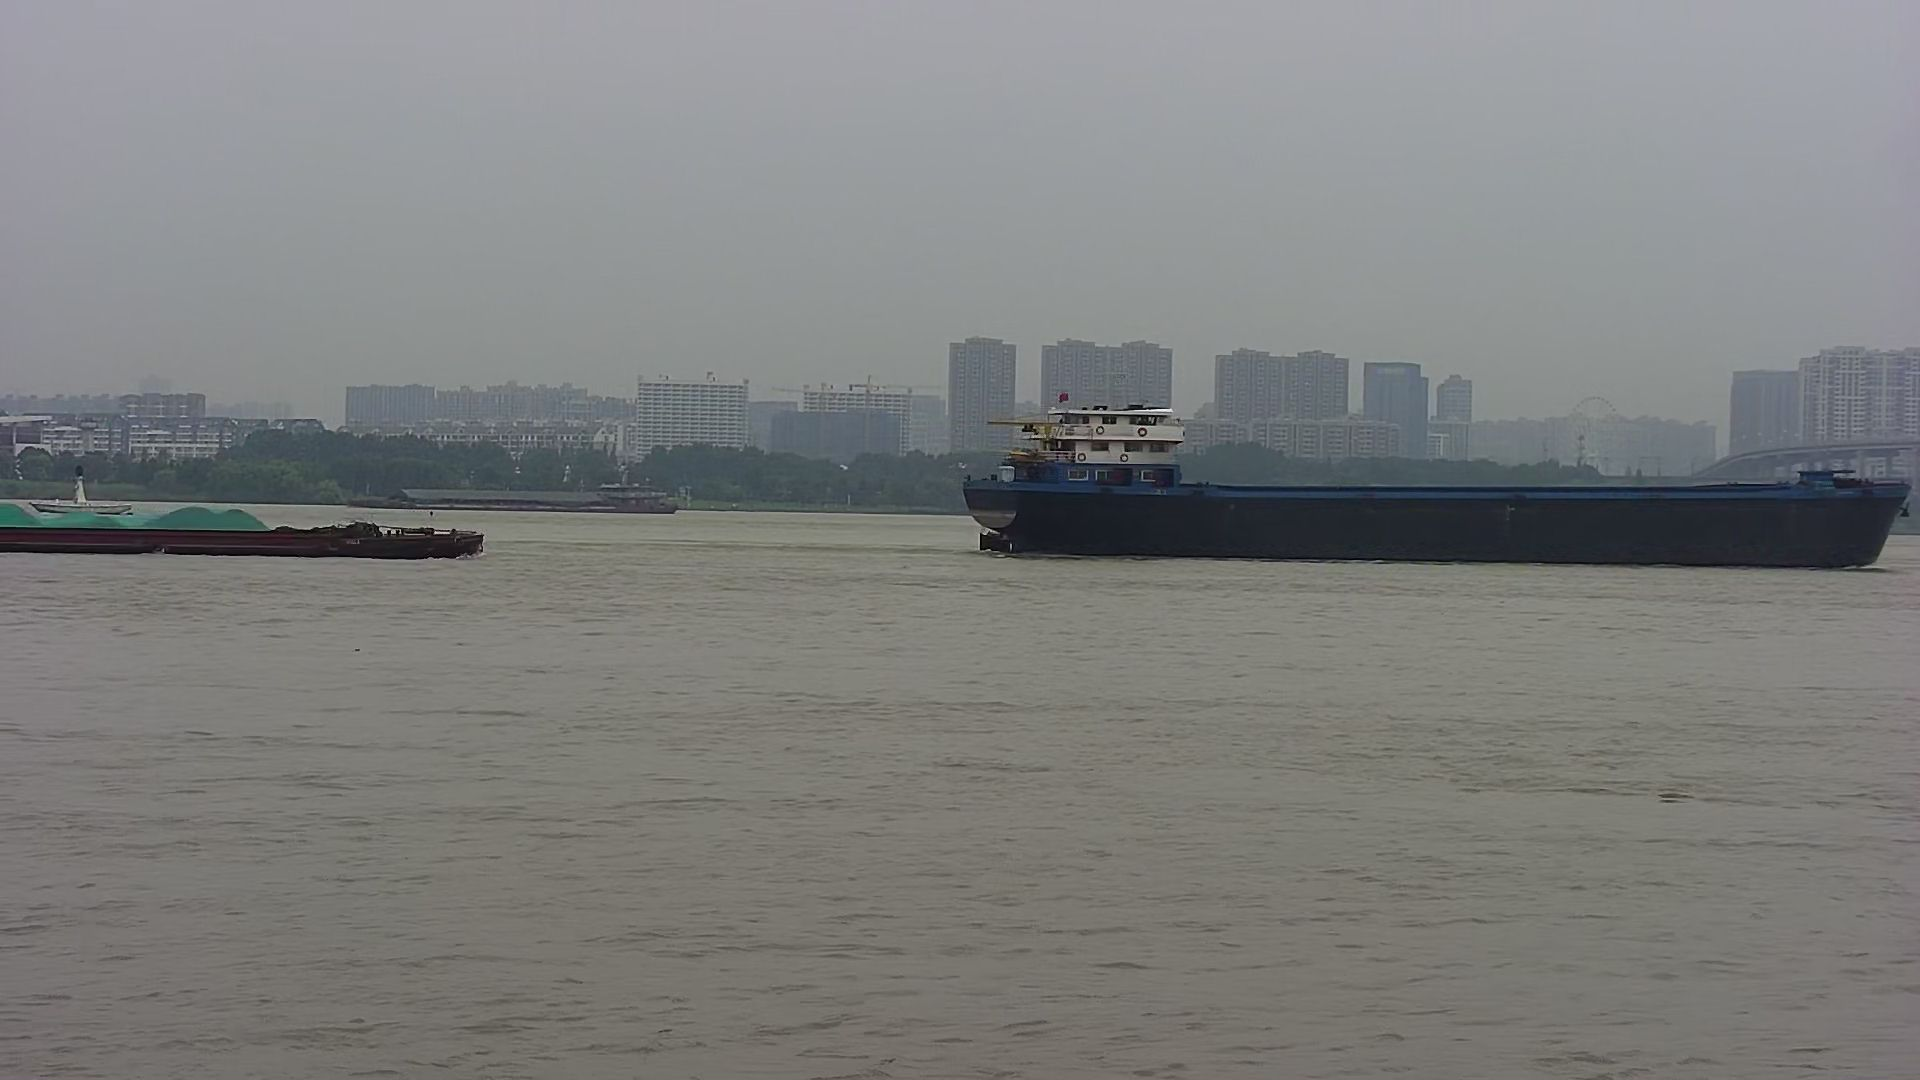boat: (24, 454, 144, 524)
ship: (961, 377, 1920, 578), (1, 496, 500, 564), (363, 462, 698, 526)
